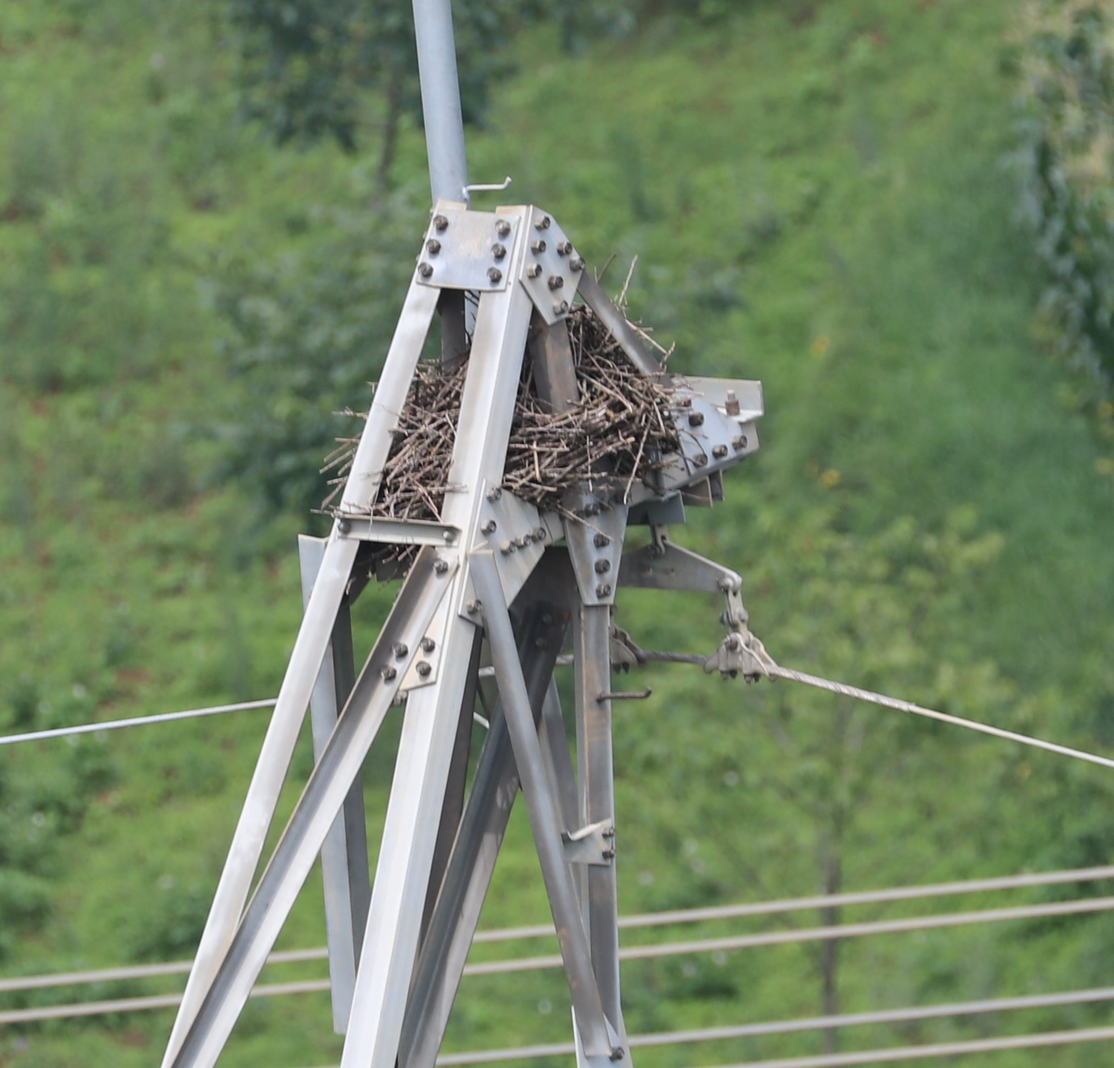nest: (331, 340, 696, 522)
